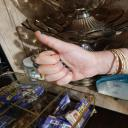ThumbsUp: (26, 26, 101, 92)
